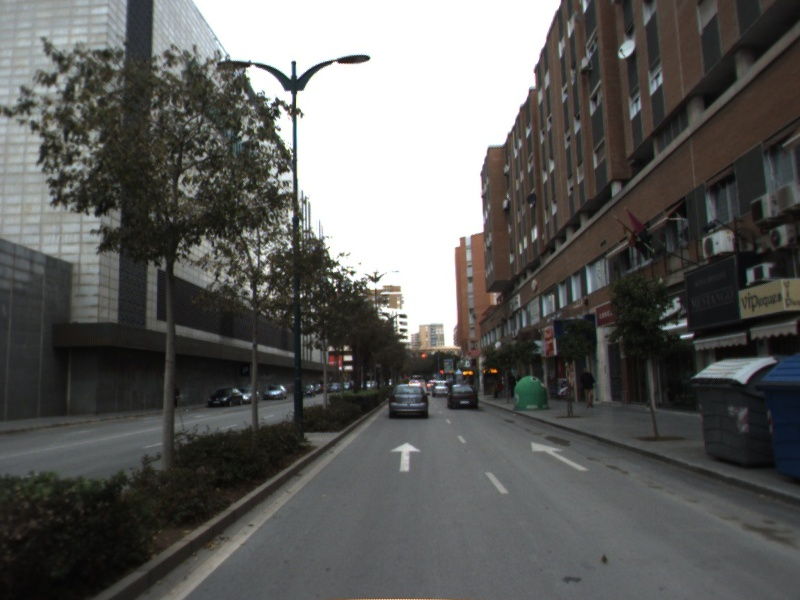STRAIGHT: (529, 440, 591, 472), (388, 440, 423, 474)
